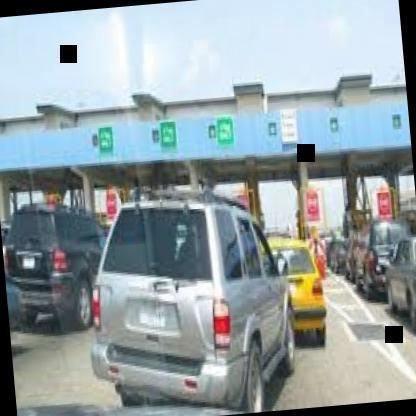car: (82, 167, 300, 414), (0, 180, 132, 344), (378, 216, 416, 341)
